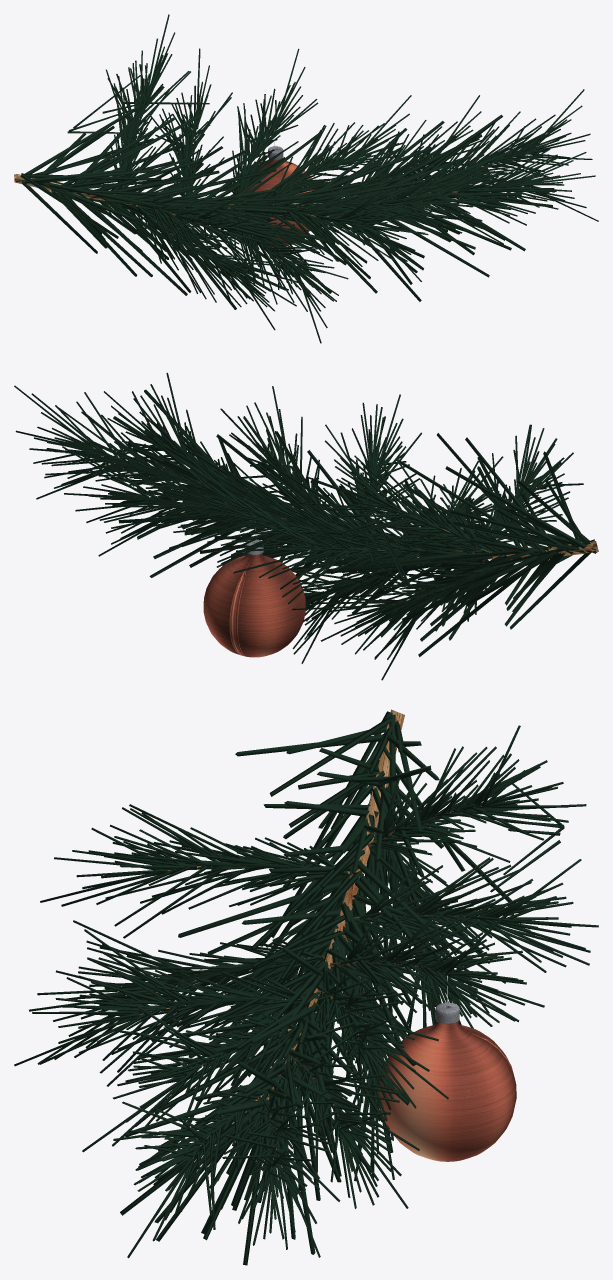
File: Ornamento1.obj
3 renders of one model, top to bottom at view 1: azimuth 30°, elevation 25°; view 2: azimuth 150°, elevation 25°; view 3: azimuth 270°, elevation 25°, orthographic. The views are drawn at different scales.
Visible parts, largest first — view 1: needles, ball; view 2: needles, ball, branch; view 3: needles, ball, branch.
Part boxes in pixels (left/top/right/bottom): needles: left=15, top=14, right=598, bottom=343; ball: left=233, top=158, right=314, bottom=247; needles: left=14, top=372, right=596, bottom=680; ball: left=203, top=553, right=305, bottom=657; branch: left=199, top=482, right=598, bottom=604; needles: left=14, top=711, right=598, bottom=1265; ball: left=378, top=1021, right=516, bottom=1161; branch: left=140, top=709, right=496, bottom=1159.
Bounding box in the file's own units: 16.14 × 7.44 × 9.68.
